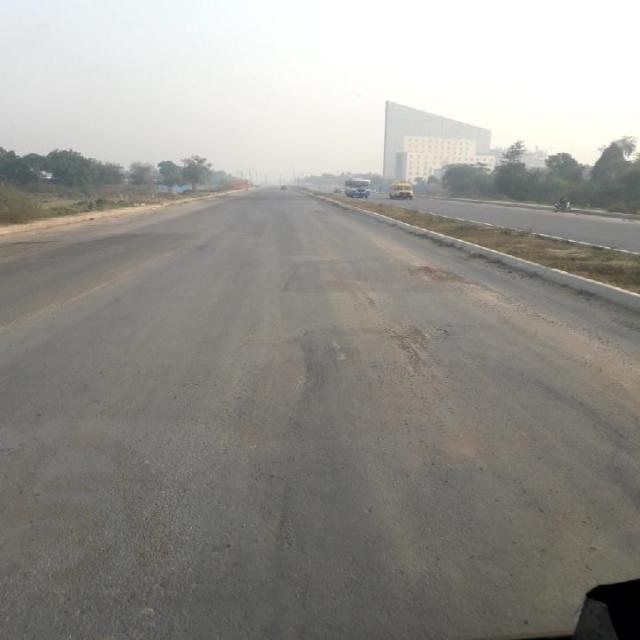Surface Erosion: (250, 190, 570, 495)
